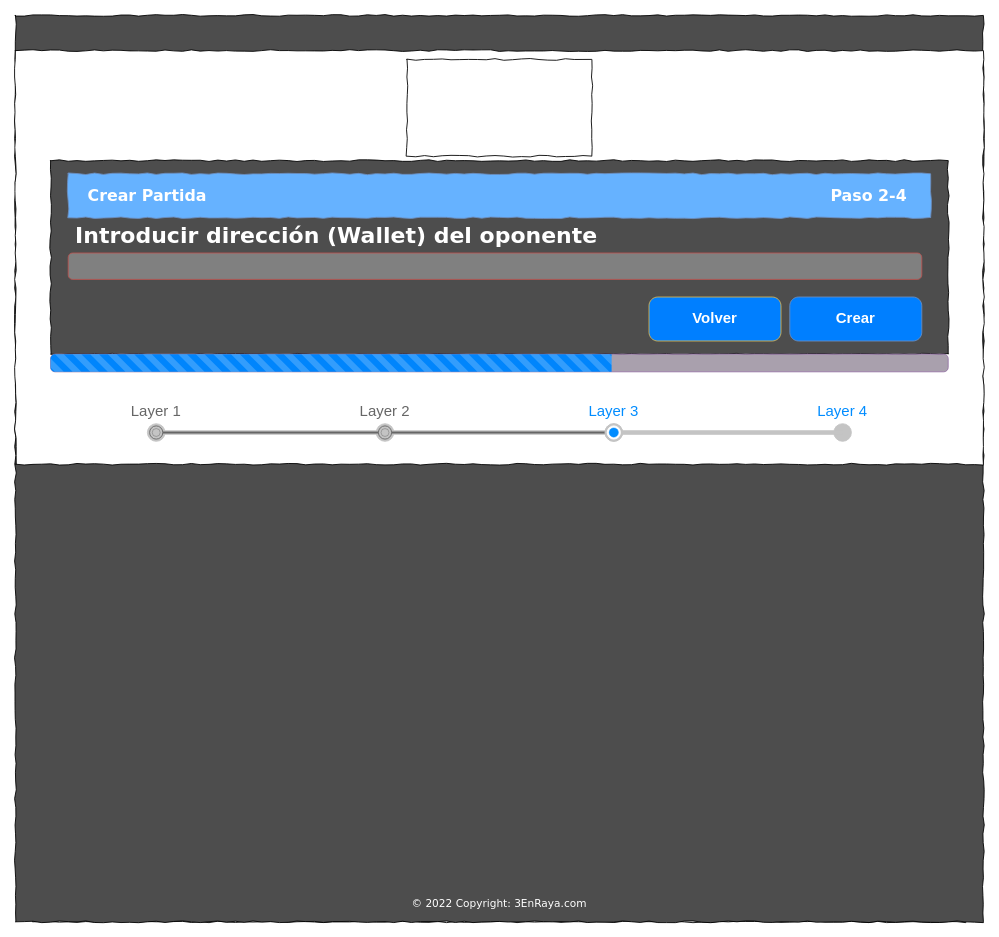
The diagram is 999 pixels wide and 937 high, and some of its shapes have lost their labels. Here are the shapes that lost their labels. From the top down, the centre of each, then its label:
At [499,107]: "LOGO".
At [494,265]: "Dirección Oponente".
